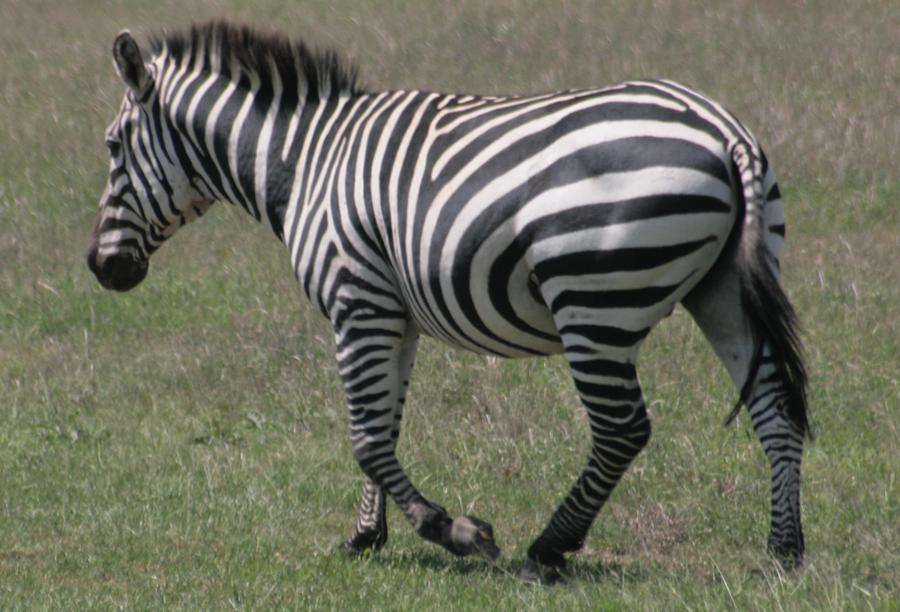zebra_plains: (279, 95, 687, 375)
